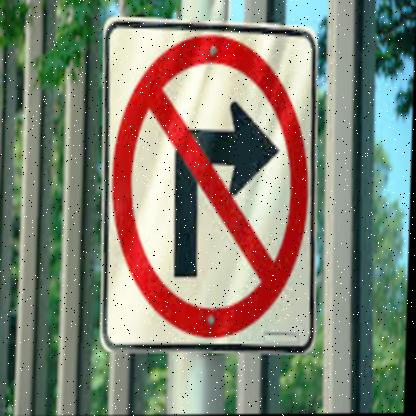No right turn: (103, 26, 313, 350)
